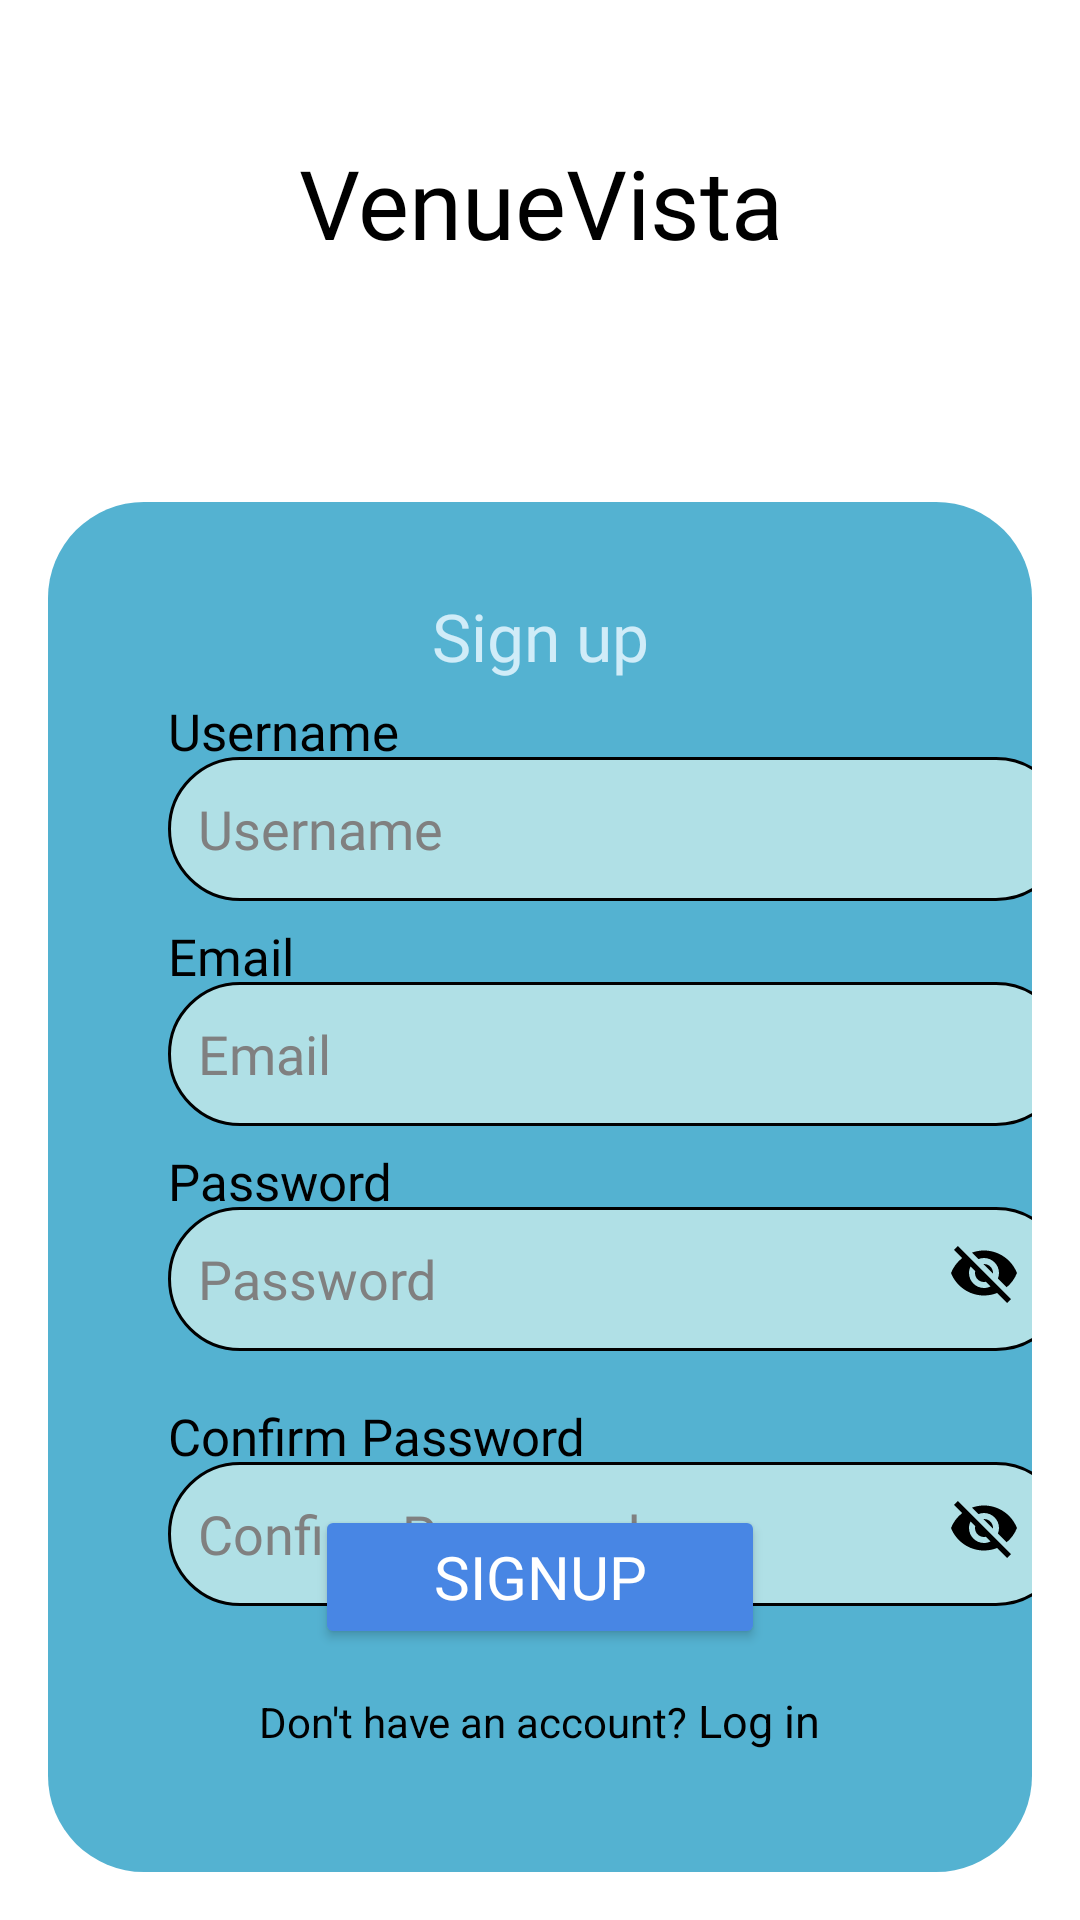

Locate icon controls on the screen. Image size 1080px x 1920px, boxes as (x1, y1, x2, y2).
visibility off: (951, 1246, 1017, 1303), (951, 1501, 1017, 1558)
